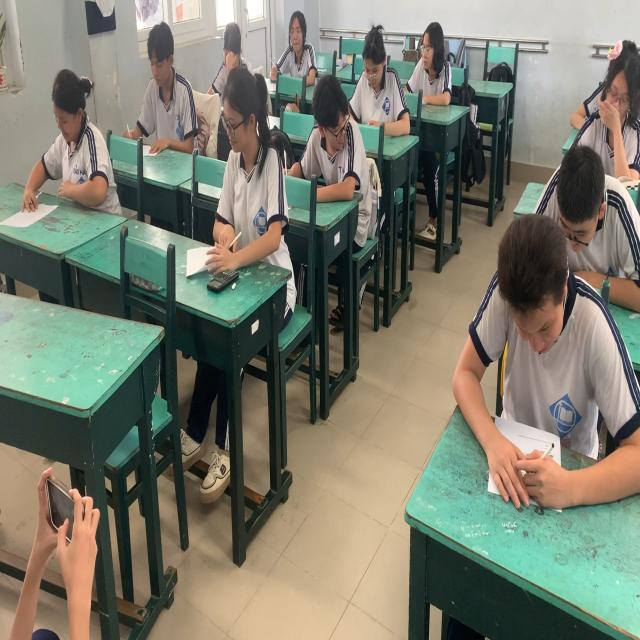cheating: (301, 64, 363, 171)
not_cheating: (474, 219, 615, 489), (200, 71, 296, 278), (33, 64, 121, 212), (544, 154, 622, 285), (134, 16, 195, 171), (580, 43, 640, 122), (272, 15, 326, 88), (354, 22, 391, 122), (207, 8, 250, 77), (414, 16, 452, 91)
